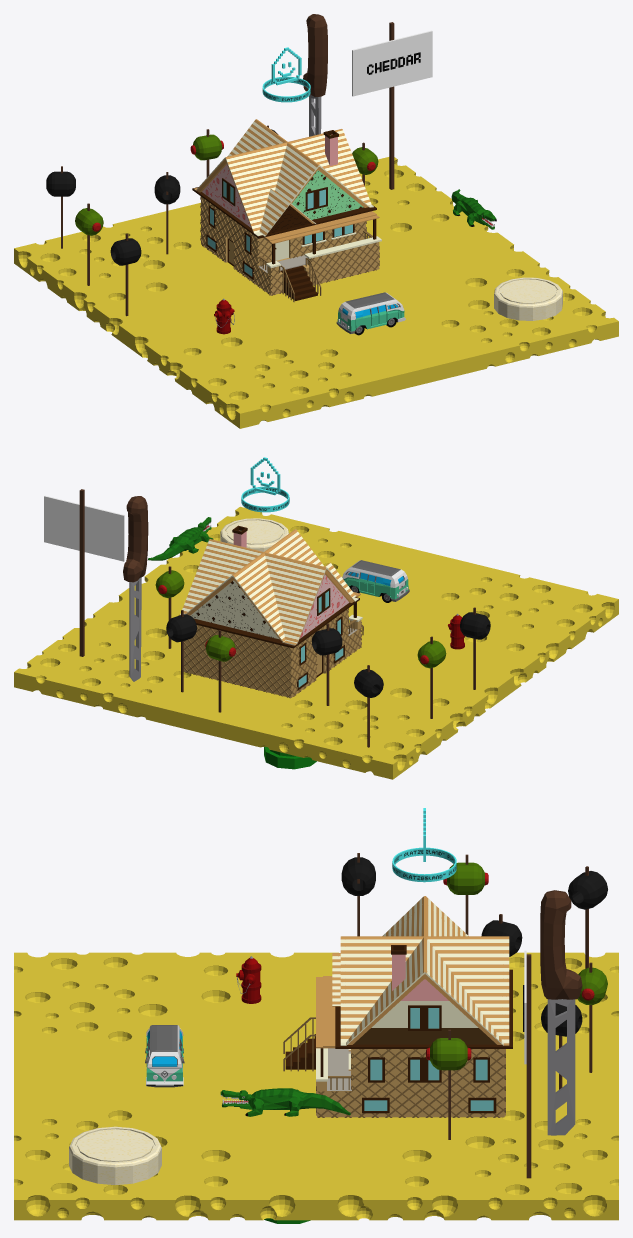
The picture shows the model from 3 angles, top to bottom: view 1: azimuth 30°, elevation 25°; view 2: azimuth 150°, elevation 25°; view 3: azimuth 270°, elevation 25°; orthographic projection. The views are drawn at different scales.
Visible parts, largest first — view 1: Cube.022, Cube.1102, Cube.023, Cylinder.016, Cube.024, VEHICLES_VAN, TYPE_PREMIUM, Sphere.017, ANIMAL_COCODRILO, Sphere.016, Sphere.020, Sphere.018 (+2 smaller); view 2: Cube.022, Cube.1102, Cube.023, Cube.024, VEHICLES_VAN, Cylinder.016, TYPE_PREMIUM, ANIMAL_COCODRILO, Sphere.020, Sphere.022, Sphere.017, Sphere.021 (+4 smaller); view 3: Cube.022, Cube.1102, Cube.024, Cylinder.016, VEHICLES_VAN, ANIMAL_COCODRILO, Cube.023, Sphere.019, Sphere.016, Sphere.018, TYPE_PREMIUM, Sphere.017 (+4 smaller).
Part boxes in pixels (bbox=[...]): Cube.022: bbox=[14, 157, 618, 428]; Cube.1102: bbox=[192, 119, 381, 302]; Cube.023: bbox=[352, 22, 432, 189]; Cylinder.016: bbox=[494, 277, 562, 320]; Cube.024: bbox=[303, 14, 327, 136]; VEHICLES_VAN: bbox=[336, 292, 405, 335]; TYPE_PREMIUM: bbox=[262, 47, 310, 102]; Sphere.017: bbox=[110, 233, 141, 316]; ANIMAL_COCODRILO: bbox=[451, 189, 496, 229]; Sphere.016: bbox=[46, 166, 75, 248]; Sphere.020: bbox=[154, 172, 180, 254]; Sphere.018: bbox=[75, 203, 103, 285]; Cube.022: bbox=[14, 506, 618, 779]; Cube.1102: bbox=[178, 525, 363, 698]; Cube.023: bbox=[44, 489, 124, 656]; Cube.024: bbox=[123, 496, 148, 681]; VEHICLES_VAN: bbox=[342, 560, 409, 602]; Cylinder.016: bbox=[220, 518, 288, 551]; TYPE_PREMIUM: bbox=[241, 457, 289, 512]; ANIMAL_COCODRILO: bbox=[148, 517, 213, 560]; Sphere.020: bbox=[311, 623, 342, 705]; Sphere.022: bbox=[205, 630, 235, 712]; Sphere.017: bbox=[460, 607, 490, 689]; Sphere.021: bbox=[166, 610, 196, 692]; Cube.022: bbox=[14, 952, 618, 1220]; Cube.1102: bbox=[283, 896, 512, 1117]; Cube.024: bbox=[540, 890, 582, 1135]; Cylinder.016: bbox=[69, 1126, 161, 1185]; VEHICLES_VAN: bbox=[145, 1025, 184, 1087]; ANIMAL_COCODRILO: bbox=[220, 1088, 350, 1116]; Cube.023: bbox=[523, 950, 531, 1178]; Sphere.019: bbox=[426, 1029, 471, 1139]; Sphere.016: bbox=[568, 866, 607, 968]; Sphere.018: bbox=[443, 854, 488, 934]; TYPE_PREMIUM: bbox=[392, 808, 456, 882]; Sphere.017: bbox=[341, 853, 375, 936].
Size of the model in its own units: 3917 by 2807 by 4000.
Materials: 37 (5 with a texture image).
